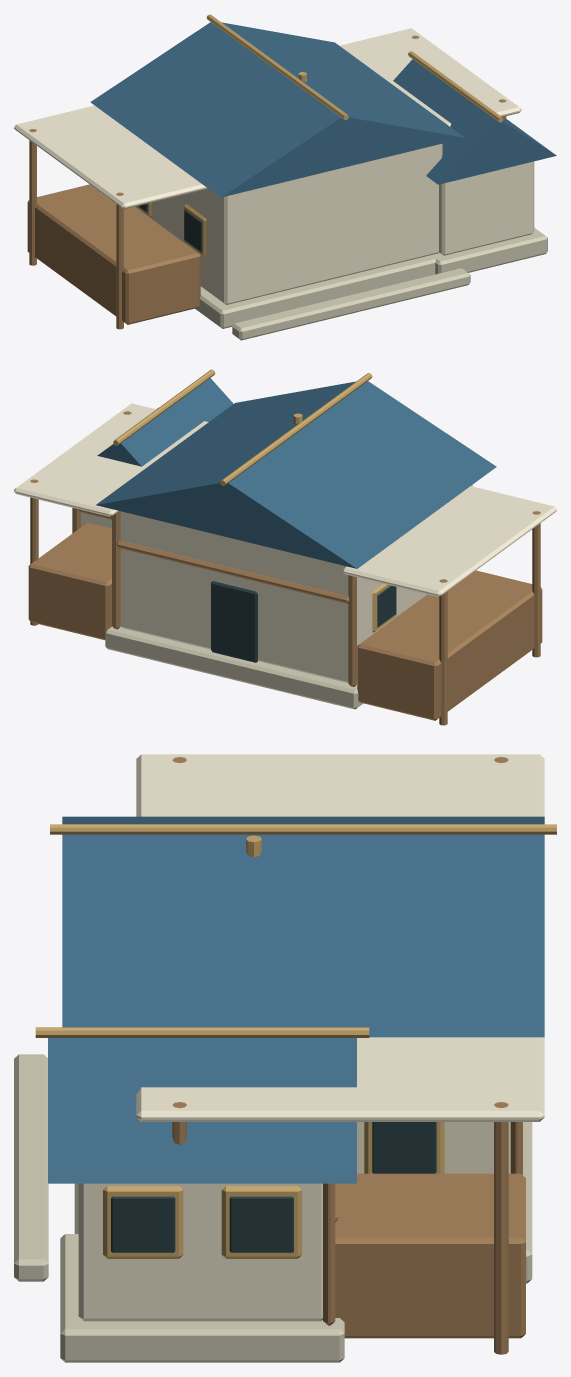
The model's file is level_07.glb.
The picture shows the model from 3 angles, top to bottom: view 1: azimuth 30°, elevation 25°; view 2: azimuth 150°, elevation 25°; view 3: azimuth 270°, elevation 25°; orthographic projection. The views are drawn at different scales.
Visible parts, largest first — view 1: market — level 07; view 2: market — level 07; view 3: market — level 07.
Part boxes in pixels (<box>): market — level 07: <box>14,14,556,340</box>; market — level 07: <box>14,369,556,725</box>; market — level 07: <box>14,754,556,1362</box>.
Size of the model in its own units: 7.08 by 3.16 by 4.39.
